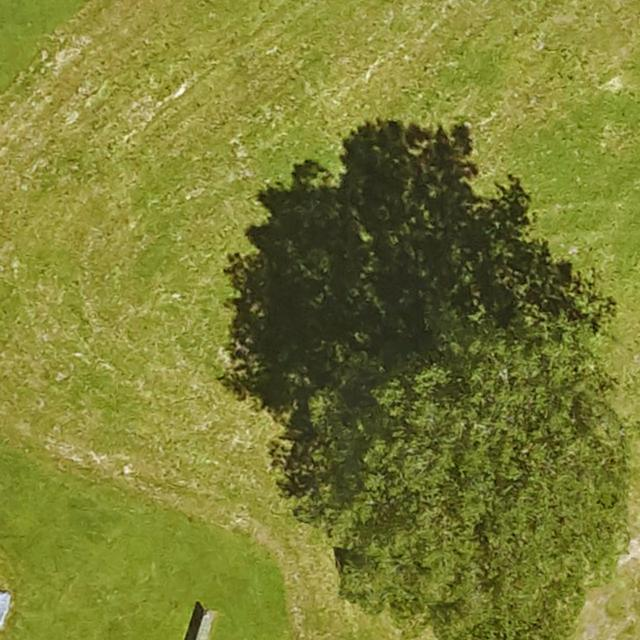tree: (296, 326, 627, 640)
